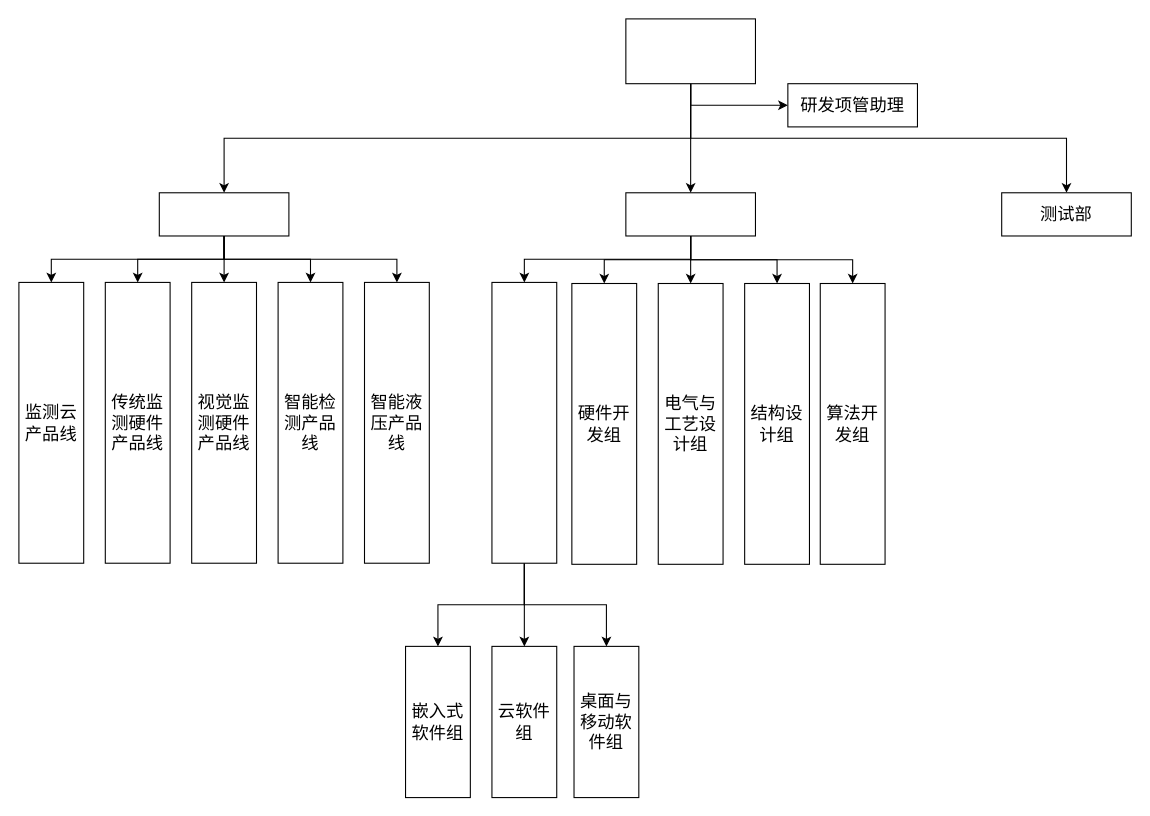
The diagram is 1150 pixels wide and 816 high, and some of its shapes have lost their labels. The box of each missing label's shape, as (x1, y1, x2, y2) in pixels:
产品中心: (158, 192, 289, 236)
副总经理 （技术）: (625, 18, 755, 84)
研究开发部: (625, 192, 755, 236)
软件开发组: (491, 281, 557, 563)
